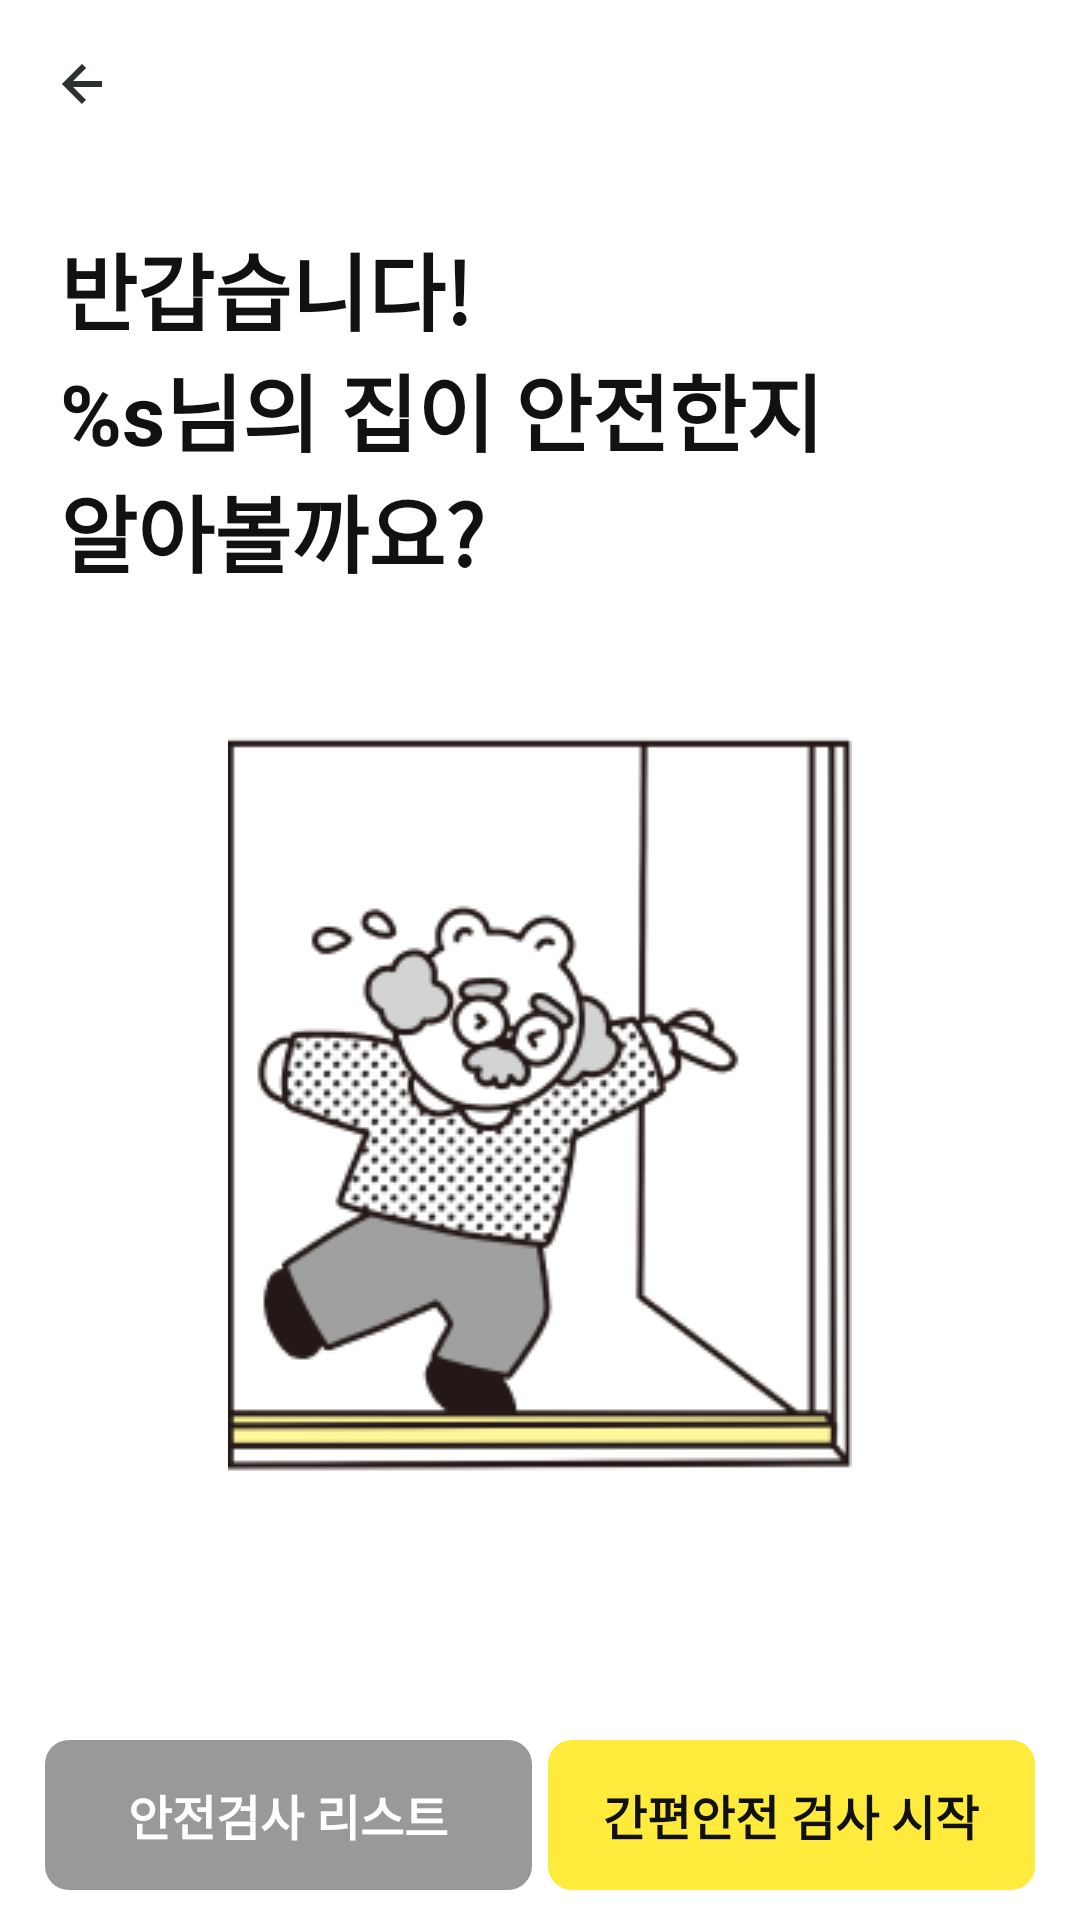

Screen size 1080w x 1920h. Icon name, then its center in pixels as [x,y]:
back: [82,84]
